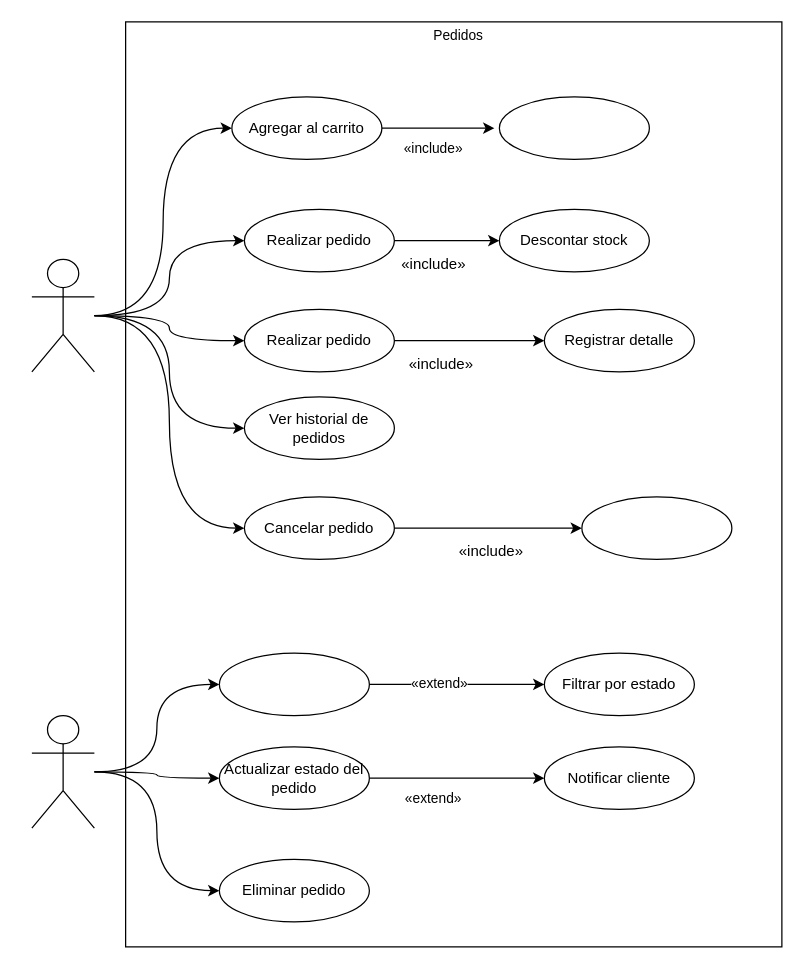
The diagram is 804 pixels wide and 969 high, and some of its shapes have lost their labels. The shapes that lost their labels are listed below. From the top down, each one's box as (x1, y1, x2, y2) in pixels, then its label:
(498, 96, 649, 159): Verificar stock
(31, 258, 94, 372): Cliente
(581, 496, 732, 559): Restaurar stock
(218, 652, 369, 716): Ver todos los pedidos
(31, 714, 94, 828): dministrador
